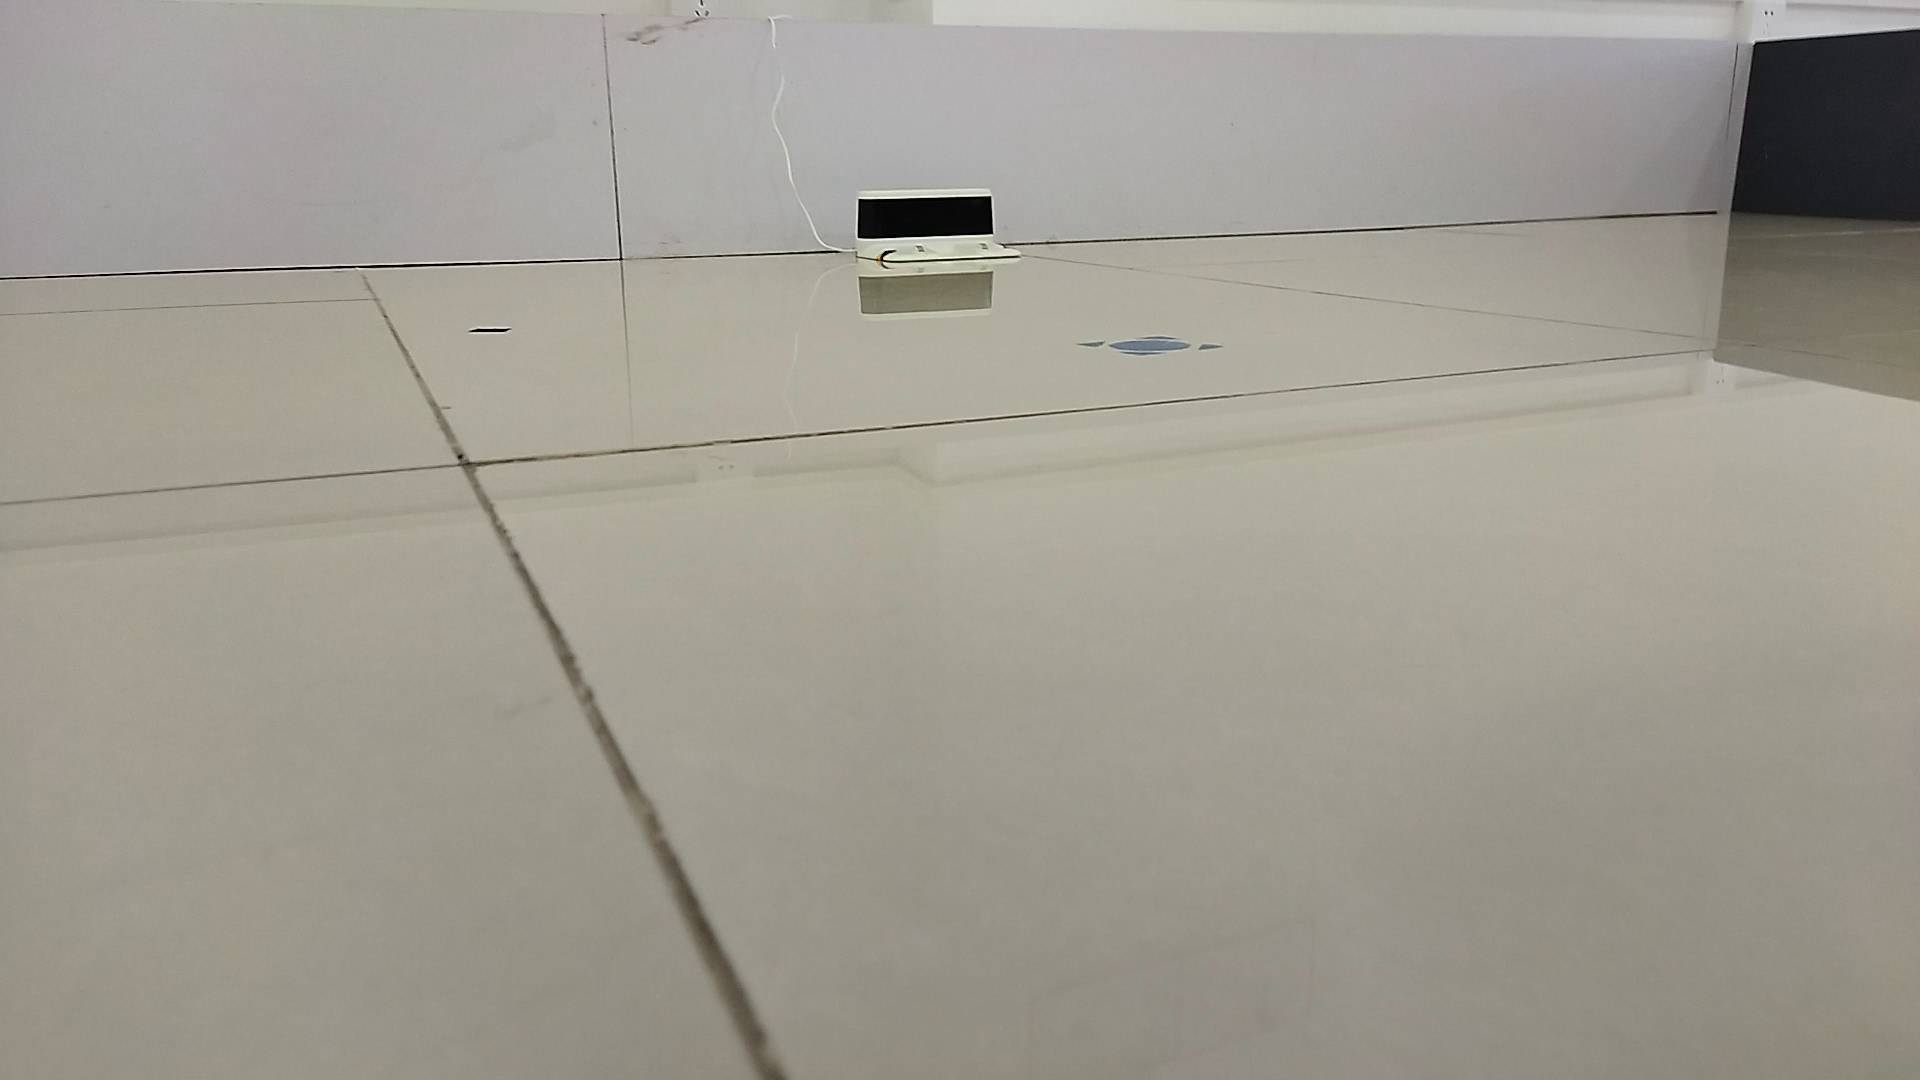recharge seat: (857, 187, 1029, 266)
